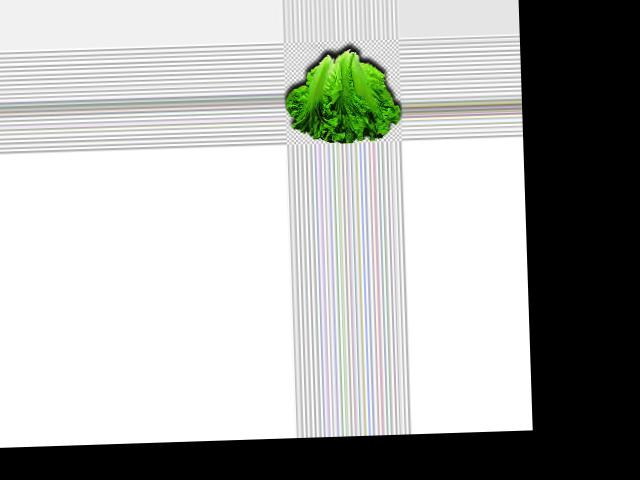lettuce: (281, 45, 399, 144)
